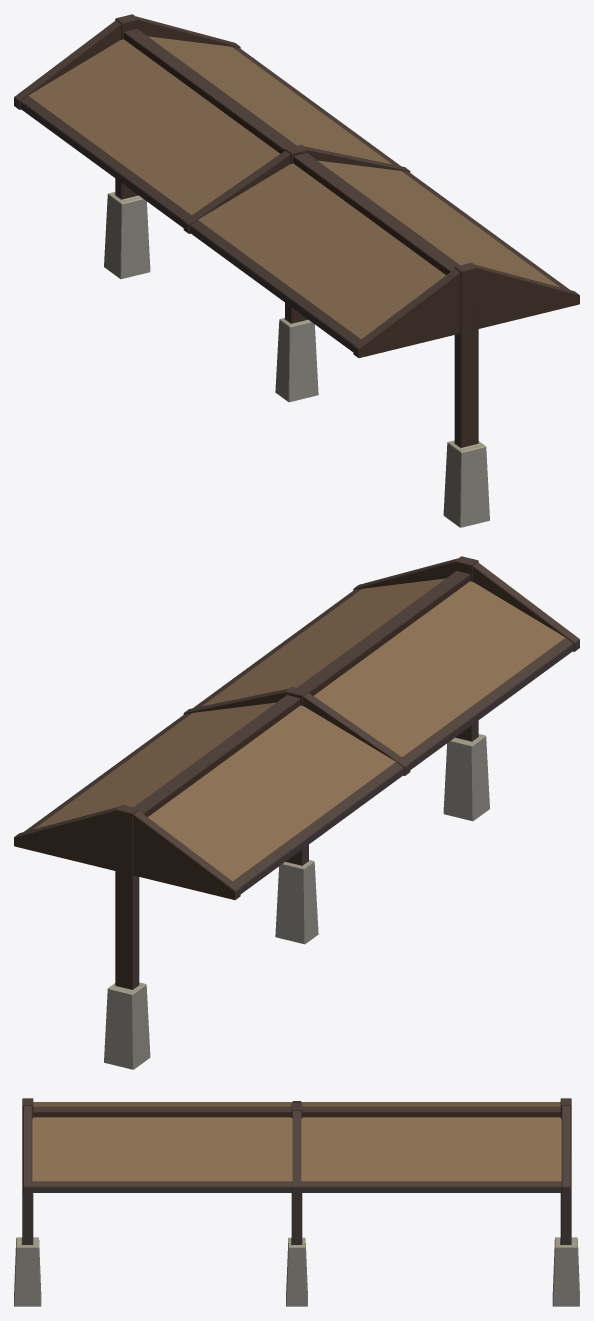
File: 3D_exterior_station_stop_2.fbx
The picture shows the model from 3 angles, top to bottom: view 1: azimuth 30°, elevation 25°; view 2: azimuth 150°, elevation 25°; view 3: azimuth 270°, elevation 25°; orthographic projection. The views are drawn at different scales.
Parts seen in each view (by area): view 1: Stop Top.018; view 2: Stop Top.018; view 3: Stop Top.018.
Boxes of the visible parts, x1=… form: Stop Top.018: x1=14, y1=14, x2=579, y2=527; Stop Top.018: x1=14, y1=556, x2=579, y2=1069; Stop Top.018: x1=14, y1=1098, x2=579, y2=1306.
Bounding box in the file's own units: 3.7 × 4 × 10.31.
